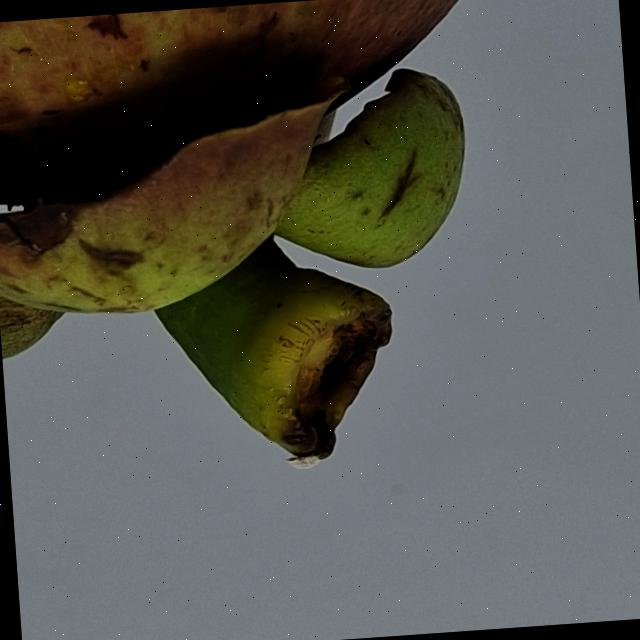mangosteen: (0, 0, 640, 457)
